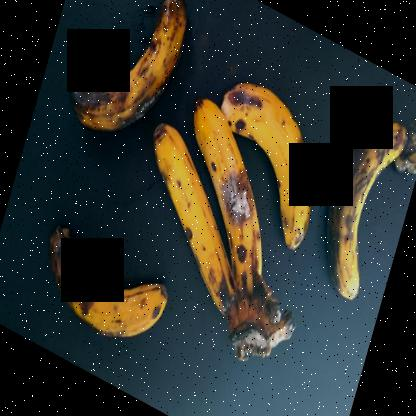overripe: (150, 126, 231, 349), (218, 66, 308, 255), (195, 97, 267, 318)
rotten: (63, 0, 201, 155), (321, 90, 413, 318), (40, 226, 189, 358)
